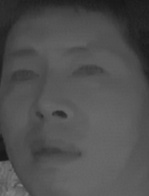eye: (69, 62, 106, 84), (7, 66, 39, 88)
mouth: (27, 136, 82, 171)
